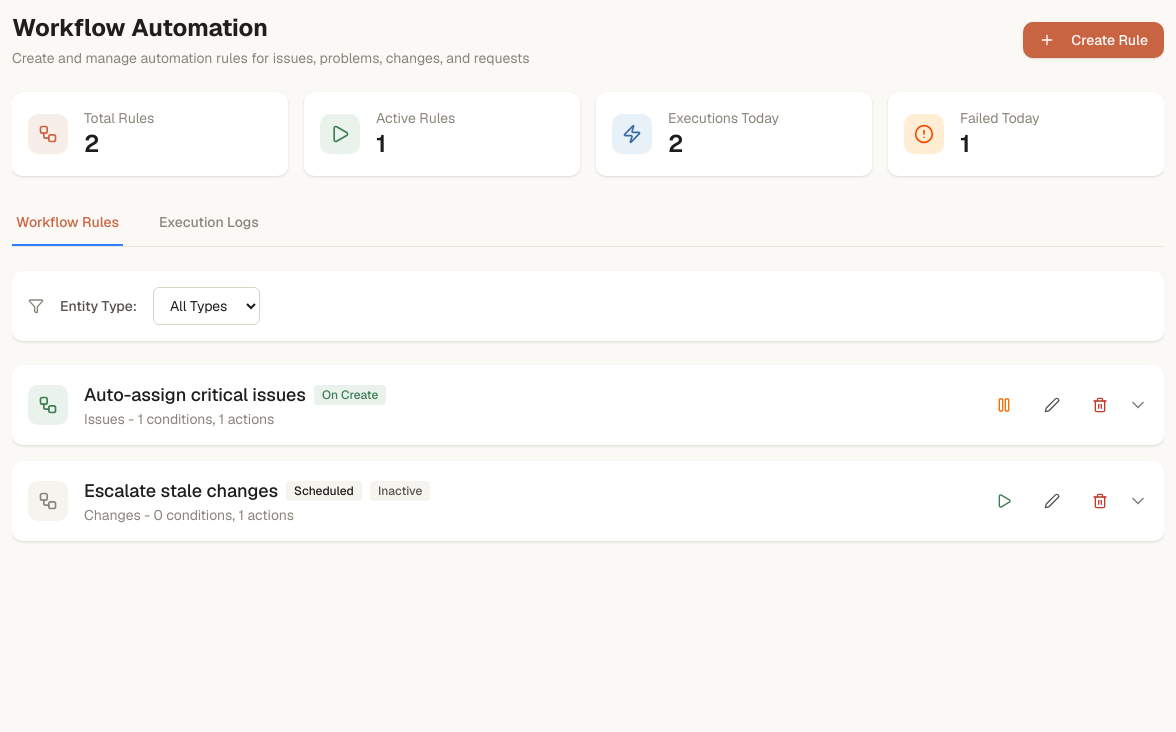
Scenario: WorkflowManagementPage › Rule Card - Expand/Collapse › collapses rule card when clicked again
Expected: the heading "Auto-assign critical issues" is shown, x1=84 y1=381 x2=306 y2=409
Click the element that starts with "Auto-assign critical issues": {"x": 235, "y": 405} x1=84 y1=381 x2=386 y2=429
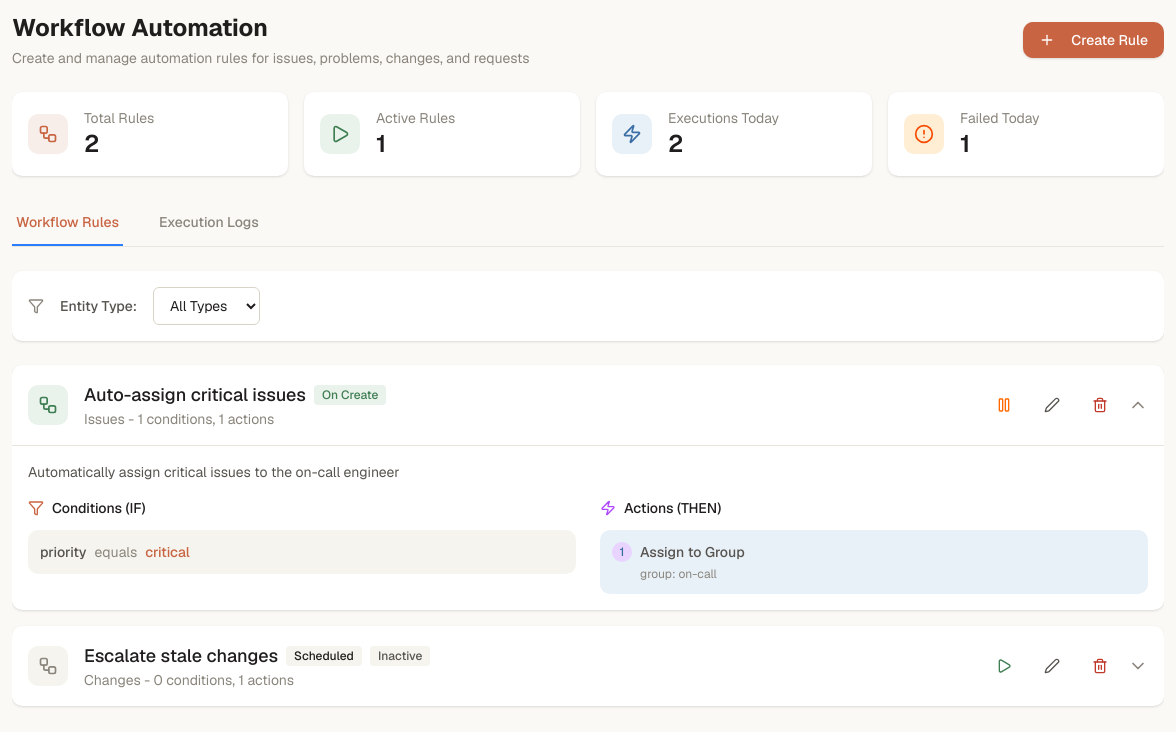
Result: the heading "Conditions (IF)" is shown at x1=28 y1=499 x2=146 y2=517
Click the element that starts with "Auto-assign critical issues": {"x": 235, "y": 405} x1=84 y1=381 x2=386 y2=429
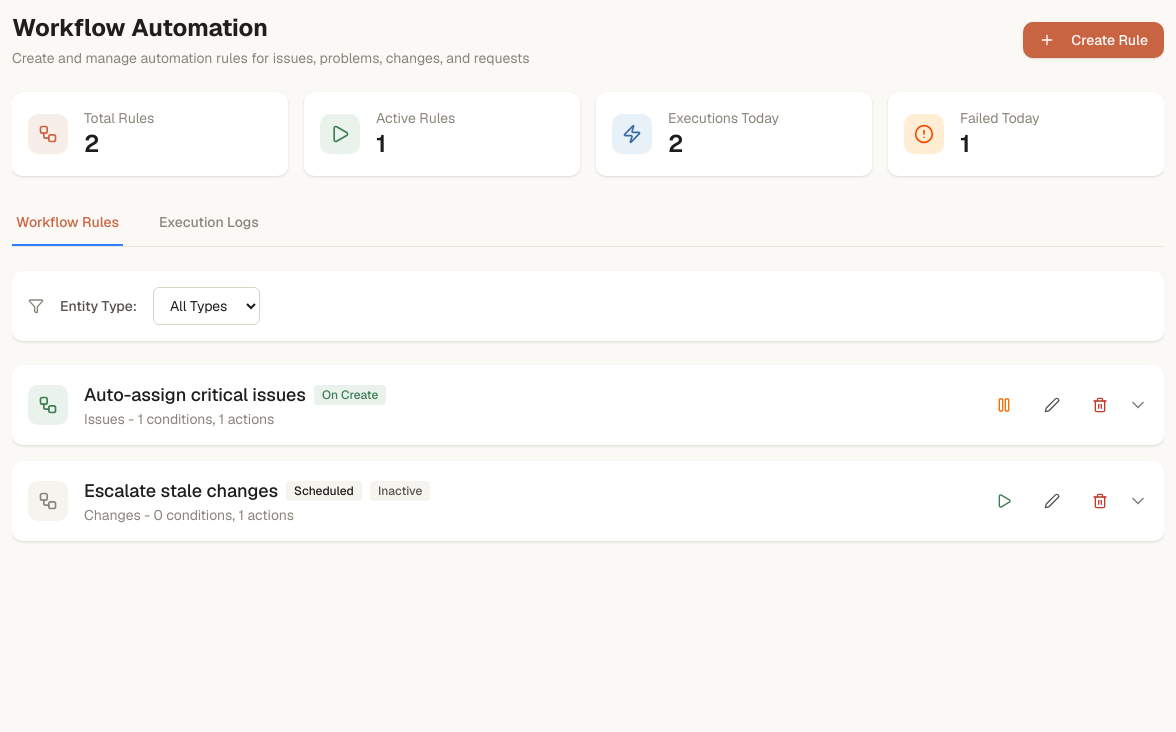
Result: the heading "Conditions (IF)" is gone
